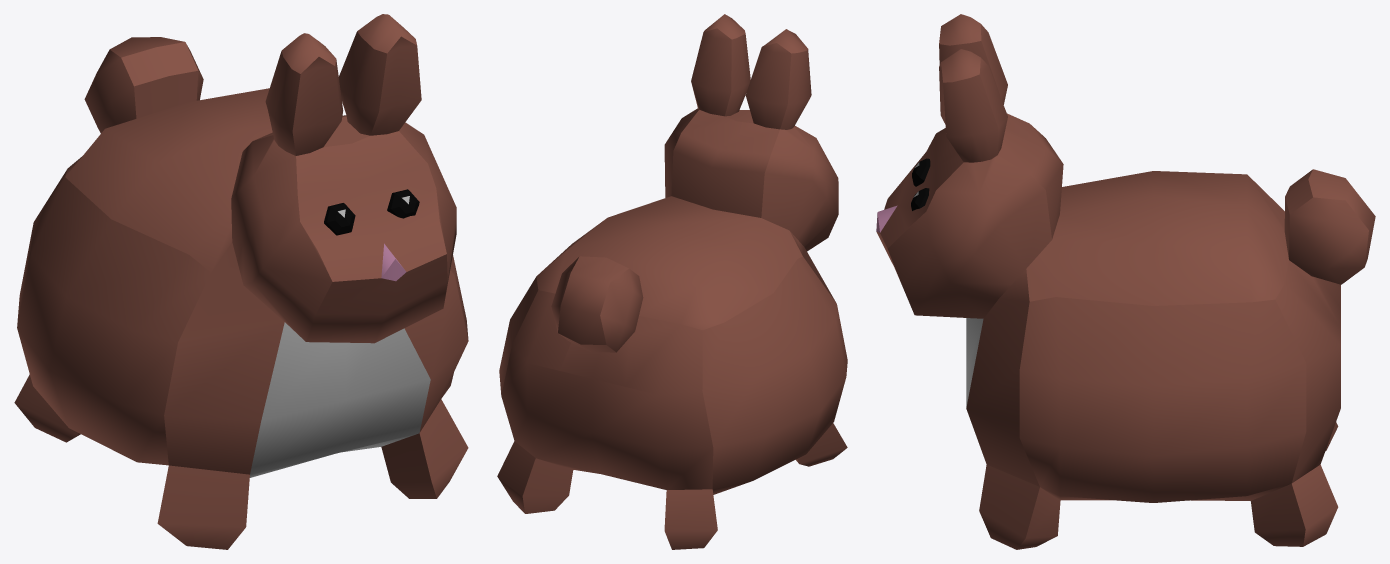
The model's file is Rabbit.fbx.
3 renders of one model, left to right at view 1: azimuth 30°, elevation 25°; view 2: azimuth 150°, elevation 25°; view 3: azimuth 270°, elevation 25°, orthographic. The views are drawn at different scales.
Parts seen in each view (by area): view 1: polySurface3, polySurface4, pSphere2, pSphere3; view 2: polySurface3; view 3: polySurface3, polySurface4.
Part boxes in pixels (left/top/right/bottom): polySurface3: left=14, top=14, right=468, bottom=549; polySurface4: left=249, top=322, right=430, bottom=477; pSphere2: left=324, top=203, right=355, bottom=235; pSphere3: left=387, top=189, right=419, bottom=218; polySurface3: left=497, top=14, right=847, bottom=549; polySurface3: left=876, top=14, right=1375, bottom=549; polySurface4: left=966, top=318, right=983, bottom=407.
Size of the model in its own units: 3.44 by 4.43 by 4.29.
